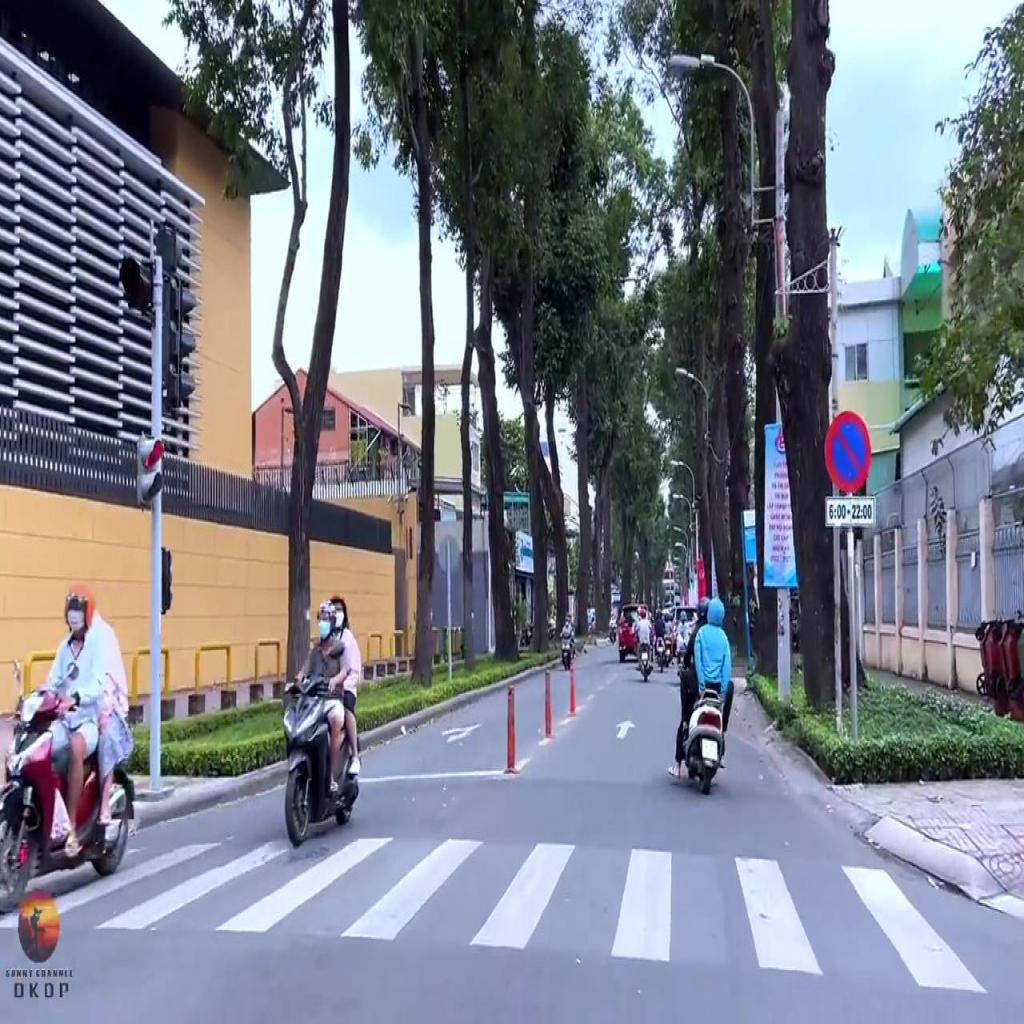cam_do_xe: (825, 410, 871, 494)
khac: (826, 496, 875, 526)
